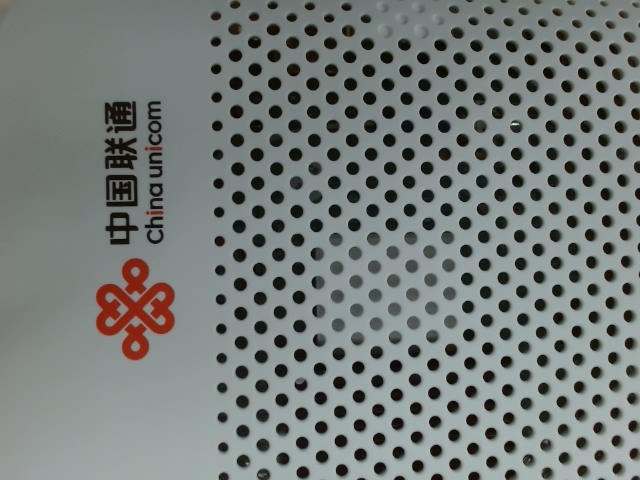AD_ChinaUnicom: (70, 89, 196, 367)
